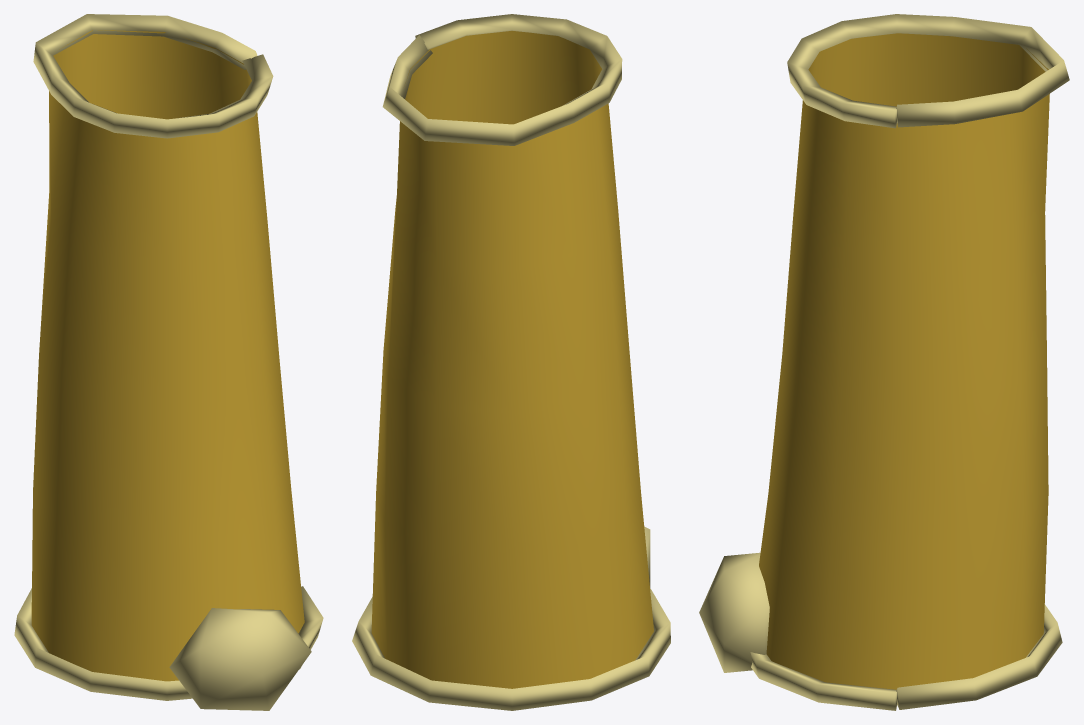
The model's file is gold_armor_greave.R.glb.
3 renders of one model, left to right at view 1: azimuth 30°, elevation 25°; view 2: azimuth 150°, elevation 25°; view 3: azimuth 270°, elevation 25°, orthographic. The views are drawn at different scales.
Parts seen in each view (by area): view 1: gold_armor_greave.R; view 2: gold_armor_greave.R; view 3: gold_armor_greave.R.
Part boxes in pixels (<box>): gold_armor_greave.R: <box>14,14,323,710</box>; gold_armor_greave.R: <box>352,14,670,710</box>; gold_armor_greave.R: <box>699,14,1069,710</box>.
Bounding box in the file's own units: 0.1941 × 0.4045 × 0.2252.
